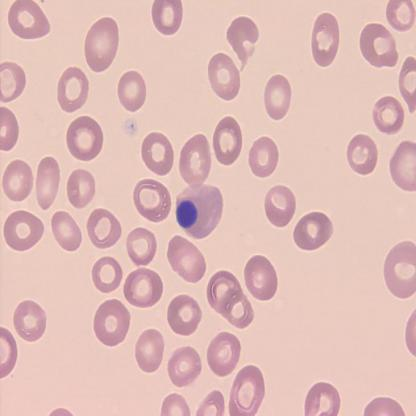NRC: (174, 198, 198, 229)
